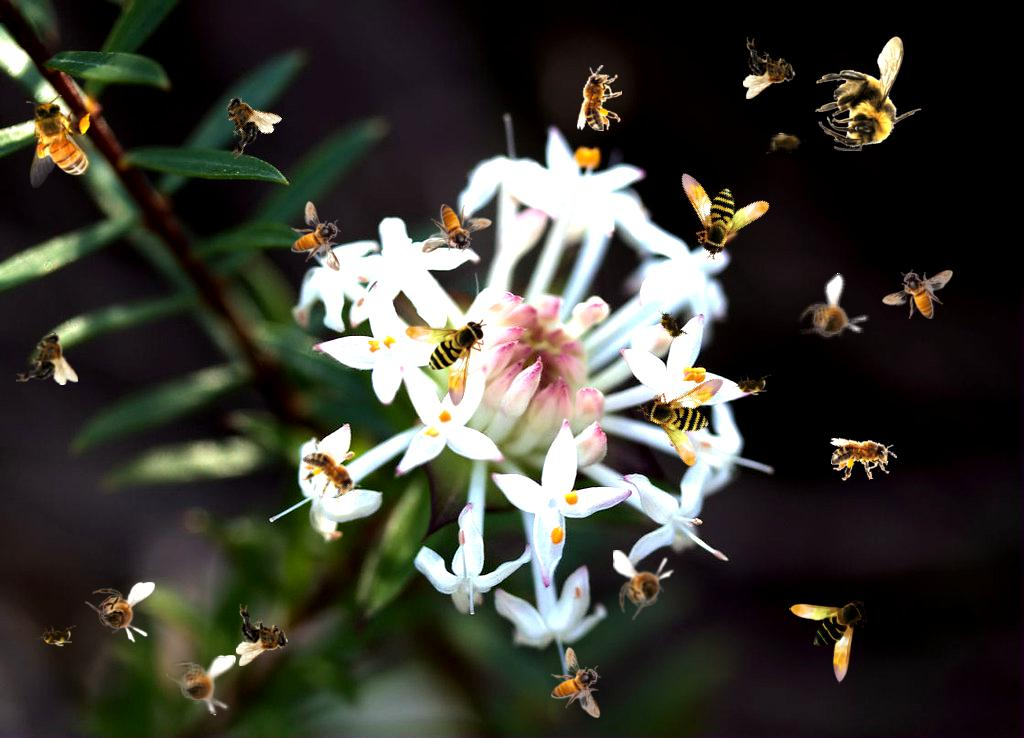Bee: (634, 354, 754, 474), (657, 143, 777, 263), (815, 36, 922, 151), (786, 272, 879, 364), (789, 596, 871, 684), (405, 319, 487, 407), (202, 81, 285, 163), (26, 95, 94, 188), (291, 438, 371, 515), (166, 655, 236, 716), (85, 582, 155, 643), (613, 550, 674, 620), (828, 431, 900, 484), (291, 201, 341, 272), (882, 269, 953, 319), (551, 647, 601, 718), (421, 204, 492, 254), (236, 604, 289, 666), (743, 37, 796, 99), (16, 332, 78, 385), (577, 65, 622, 131), (651, 302, 691, 348), (731, 374, 771, 396), (36, 625, 76, 647), (766, 132, 806, 154)
